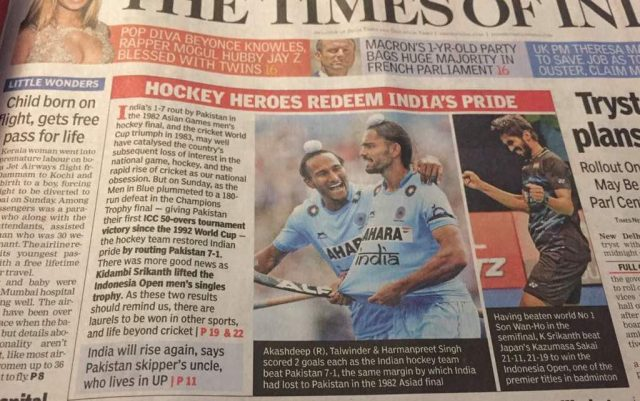Rec_Paper: (8, 1, 637, 398)
